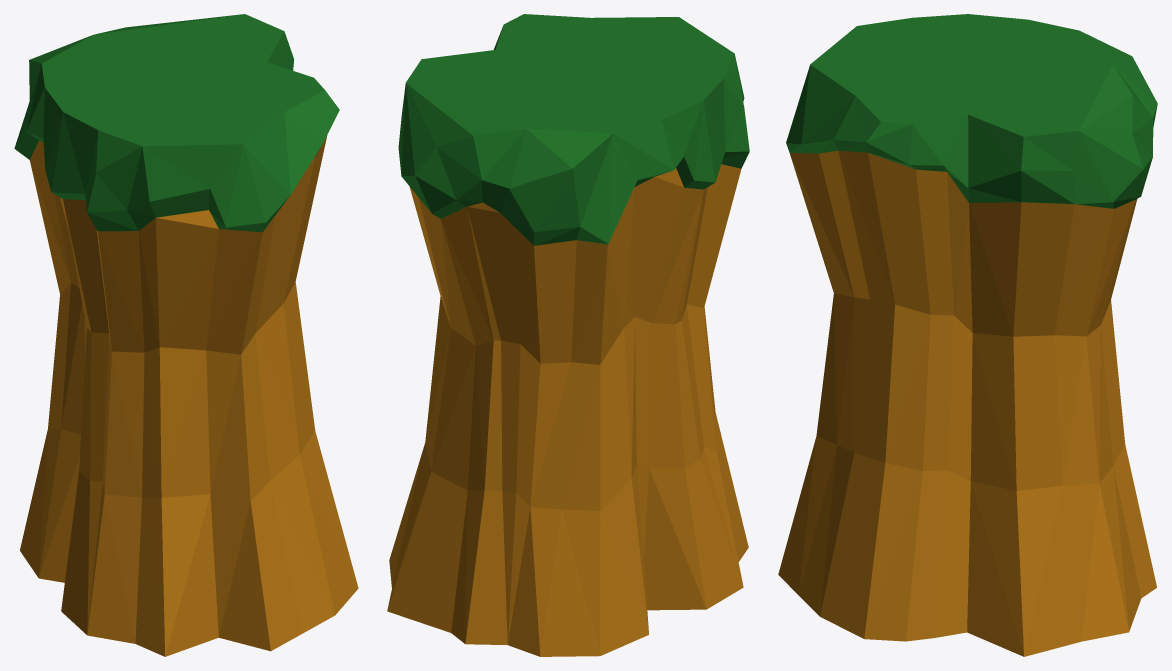
Rendered from building_03.FBX.
3 renders of one model, left to right at view 1: azimuth 30°, elevation 25°; view 2: azimuth 150°, elevation 25°; view 3: azimuth 270°, elevation 25°, orthographic. The views are drawn at different scales.
Parts seen in each view (by area): view 1: building_04_1, building_04_2; view 2: building_04_1, building_04_2; view 3: building_04_1, building_04_2.
Boxes of the visible parts, x1=… form: building_04_1: x1=20, y1=135, x2=358, y2=656; building_04_2: x1=14, y1=14, x2=339, y2=232; building_04_1: x1=387, y1=164, x2=748, y2=656; building_04_2: x1=398, y1=14, x2=749, y2=245; building_04_1: x1=778, y1=150, x2=1156, y2=656; building_04_2: x1=786, y1=14, x2=1157, y2=208.
Bounding box in the file's own units: 1427 × 2328 × 1587.
